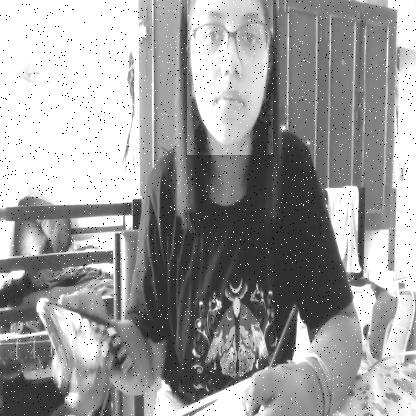Normal: (187, 0, 273, 155)
